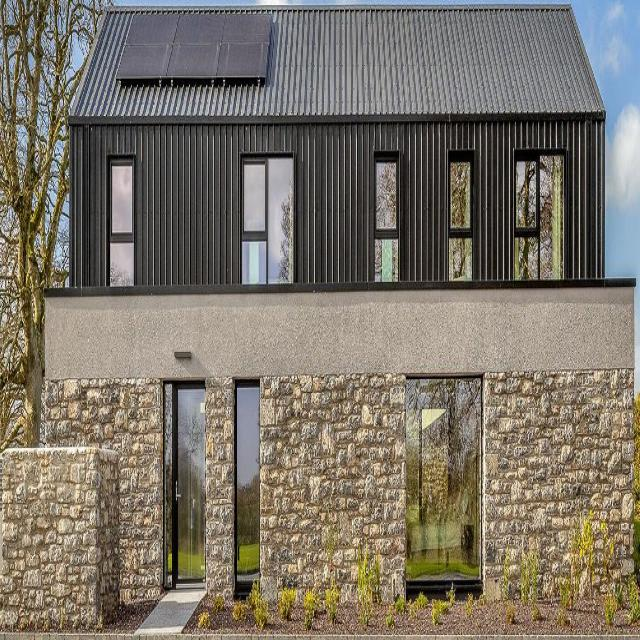door: (165, 380, 206, 588)
plant: (0, 0, 106, 447)
wall: (1, 3, 634, 634)
windows: (406, 372, 484, 604), (240, 156, 290, 281), (514, 154, 564, 279), (235, 383, 260, 596), (111, 158, 135, 285), (374, 154, 398, 281), (448, 152, 472, 278)
